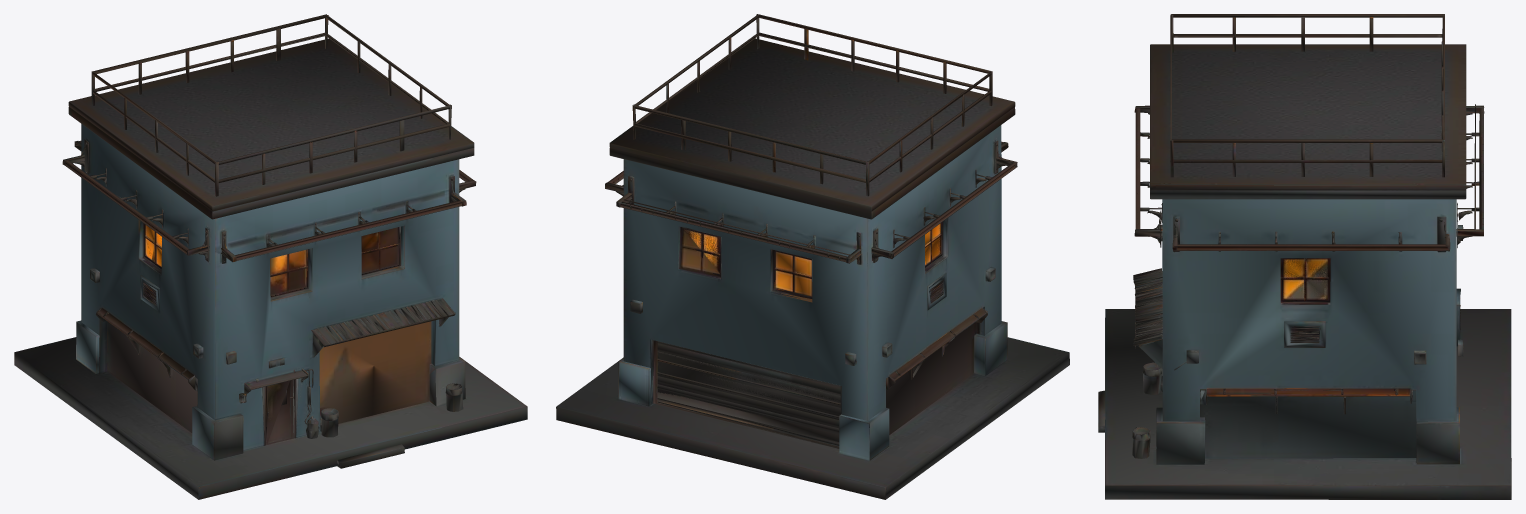
The picture shows the model from 3 angles, left to right: view 1: azimuth 30°, elevation 25°; view 2: azimuth 150°, elevation 25°; view 3: azimuth 270°, elevation 25°; orthographic projection. The views are drawn at different scales.
Size of the model in its own units: 0.957 by 0.8462 by 0.9458.
Materials: 1 (1 with a texture image).
